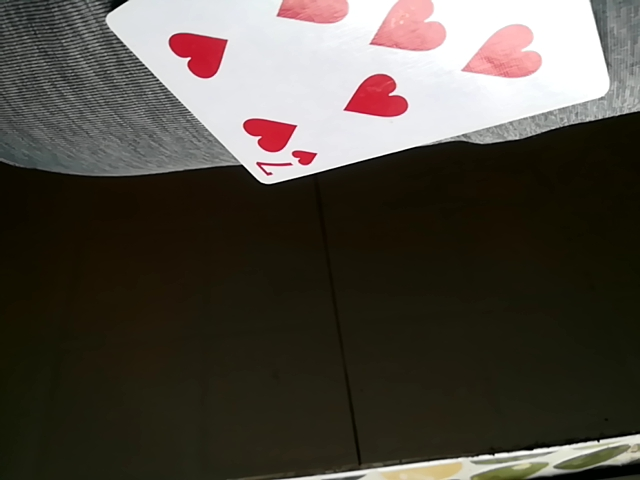hx 7: (95, 0, 616, 184)
